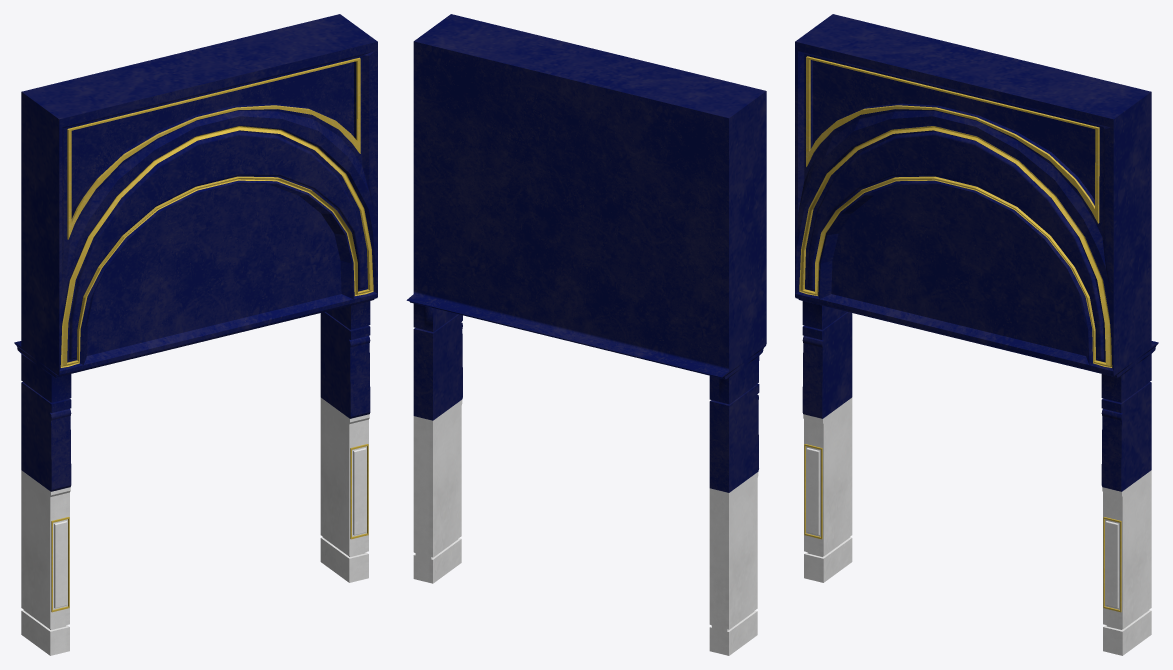
Rendered from board_door_big_with_texture_dinroom2.fbx.
The picture shows the model from 3 angles, left to right: view 1: azimuth 30°, elevation 25°; view 2: azimuth 150°, elevation 25°; view 3: azimuth 330°, elevation 25°; orthographic projection.
Parts seen in each view (by area): view 1: door_board1; view 2: door_board1; view 3: door_board1.
Part boxes in pixels (<box>): door_board1: <box>14,14,377,655</box>; door_board1: <box>406,14,766,655</box>; door_board1: <box>795,14,1158,655</box>.
Bounding box in the file's own units: 105 × 170 × 25.65.
